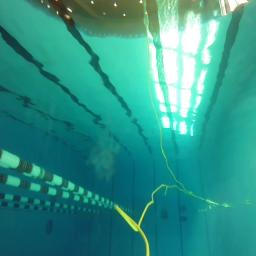Full: (160, 214, 168, 220), (179, 216, 188, 221)
